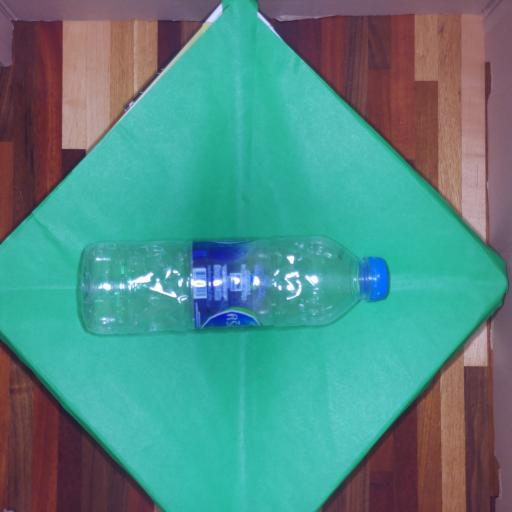bottle: (65, 222, 403, 339)
